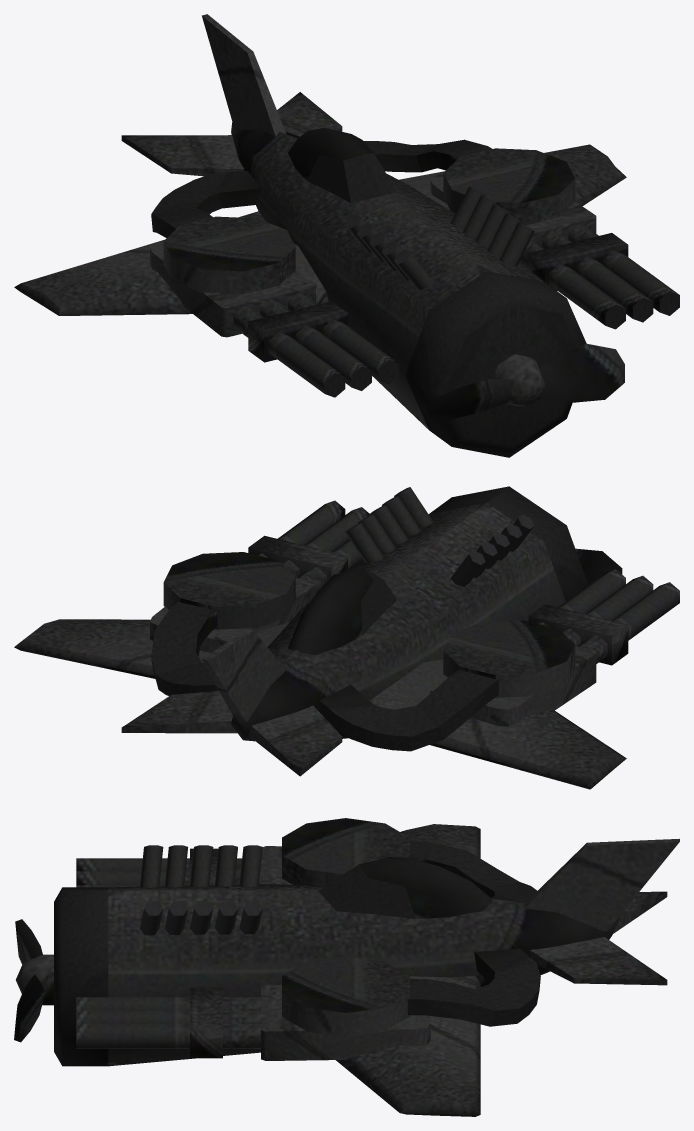
3 views of the same model, one above another, from view 1: azimuth 30°, elevation 25°; view 2: azimuth 150°, elevation 25°; view 3: azimuth 270°, elevation 25° (orthographic).
Parts seen in each view (by area): view 1: plane_03_3h45min_, plane_03_3h45min__003, plane_03_3h45min__002, plane_03_3h45min__001; view 2: plane_03_3h45min_, plane_03_3h45min__003, plane_03_3h45min__002, plane_03_3h45min__001; view 3: plane_03_3h45min_, plane_03_3h45min__002, plane_03_3h45min__001, plane_03_3h45min__003.
Boxes of the visible parts, box(x1,y1,x2,y2) form: plane_03_3h45min_: box(14, 14, 626, 457); plane_03_3h45min__003: box(233, 293, 399, 397); plane_03_3h45min__002: box(519, 225, 679, 329); plane_03_3h45min__001: box(426, 343, 624, 419); plane_03_3h45min_: box(14, 486, 626, 789); plane_03_3h45min__003: box(528, 569, 679, 665); plane_03_3h45min__002: box(248, 500, 369, 593); plane_03_3h45min__001: box(575, 548, 622, 584); plane_03_3h45min_: box(54, 818, 679, 1116); plane_03_3h45min__002: box(76, 987, 260, 1058); plane_03_3h45min__001: box(14, 919, 53, 1042); plane_03_3h45min__003: box(76, 848, 260, 887).
Size of the model in its own units: 187 by 68.12 by 184.
